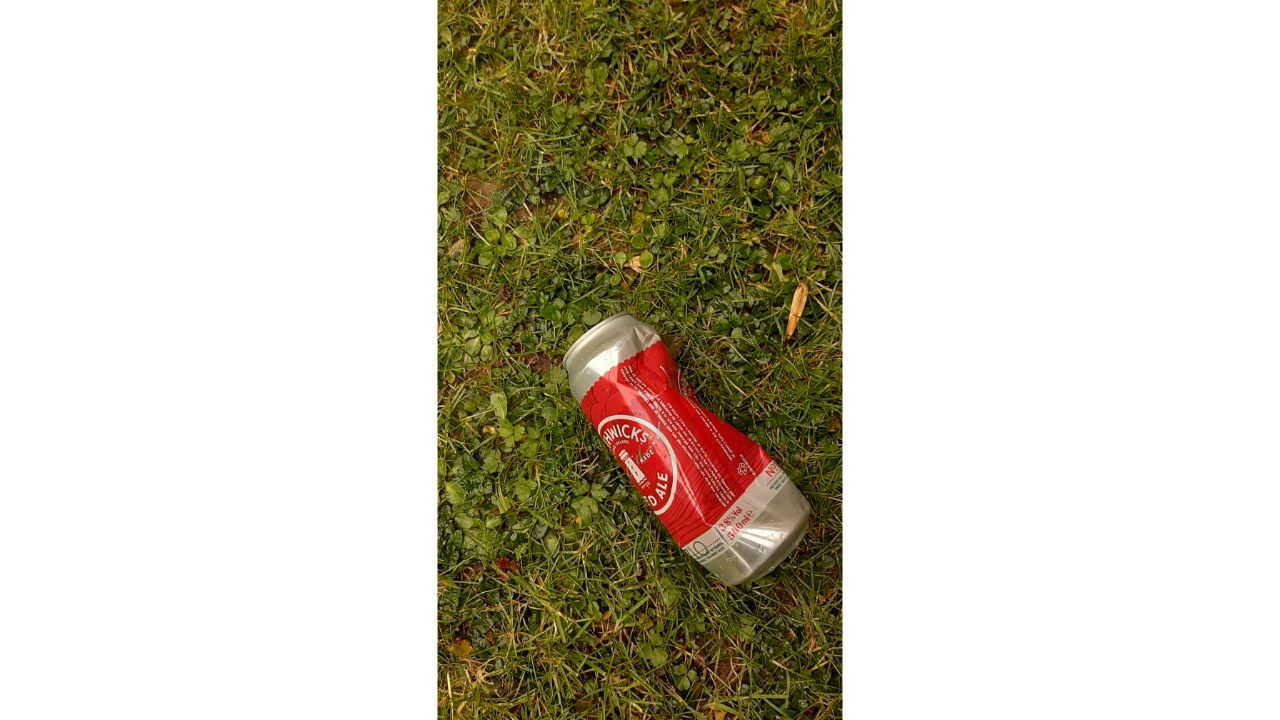Can: (559, 314, 815, 595)
